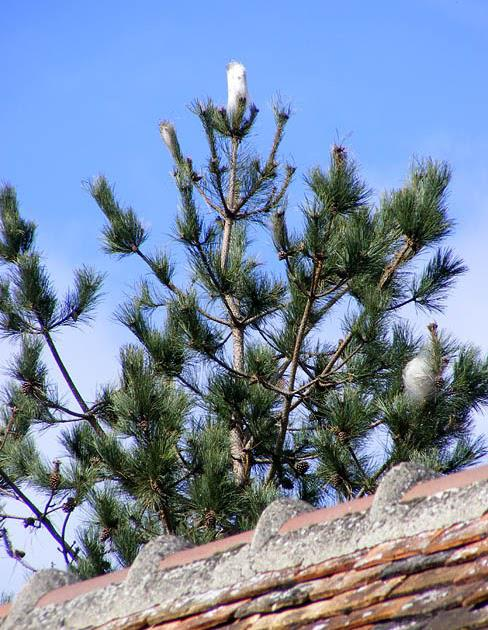thaumatopoea pityocampa jajno gnijezdo: (395, 319, 448, 419), (225, 58, 251, 132)
